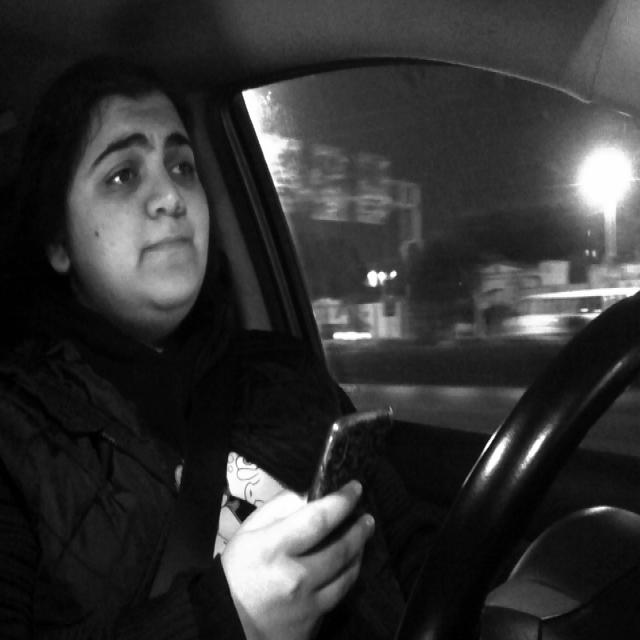mobile use: (298, 394, 398, 602)
